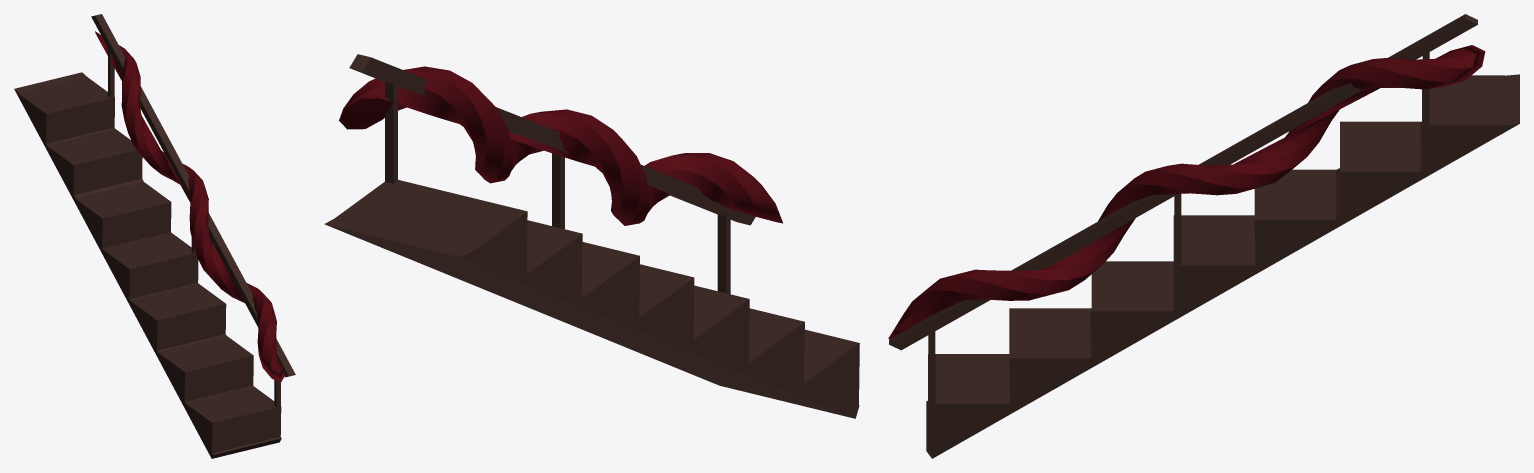
File: escaleras.obj
The picture shows the model from 3 angles, left to right: view 1: azimuth 30°, elevation 25°; view 2: azimuth 150°, elevation 25°; view 3: azimuth 270°, elevation 25°; orthographic projection. The views are drawn at different scales.
Parts seen in each view (by area): view 1: pasted__pasted__pasted__pasted__pasted__pasted__pPrism2, pHelix1; view 2: pasted__pasted__pasted__pasted__pasted__pasted__pPrism2, pHelix1; view 3: pasted__pasted__pasted__pasted__pasted__pasted__pPrism2, pHelix1.
Part boxes in pixels (bbox=[...]): pasted__pasted__pasted__pasted__pasted__pasted__pPrism2: bbox=[14, 14, 295, 458]; pHelix1: bbox=[95, 31, 284, 381]; pasted__pasted__pasted__pasted__pasted__pasted__pPrism2: bbox=[324, 54, 859, 418]; pHelix1: bbox=[339, 66, 783, 225]; pasted__pasted__pasted__pasted__pasted__pasted__pPrism2: bbox=[889, 14, 1519, 458]; pHelix1: bbox=[888, 45, 1485, 338].
Size of the model in its own units: 1.01 by 3.47 by 4.51.
2 materials, 2 textured.
